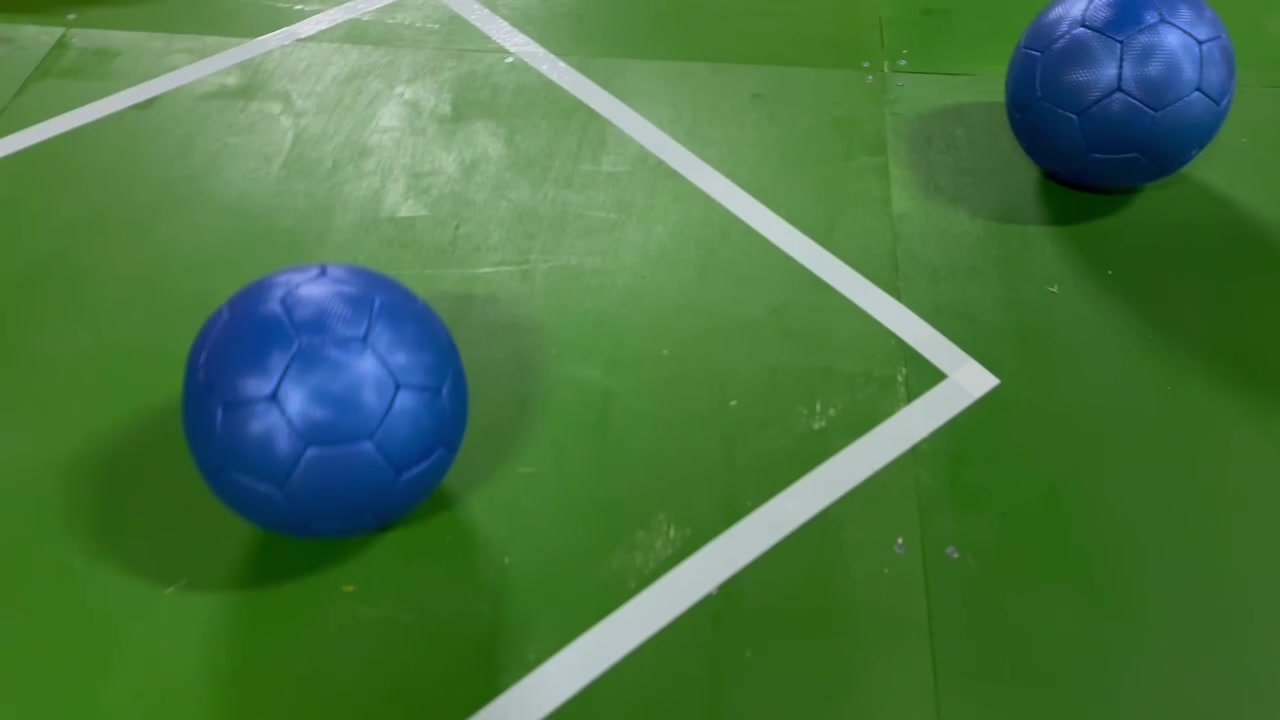blue: (180, 259, 475, 540), (1005, 0, 1239, 193)
